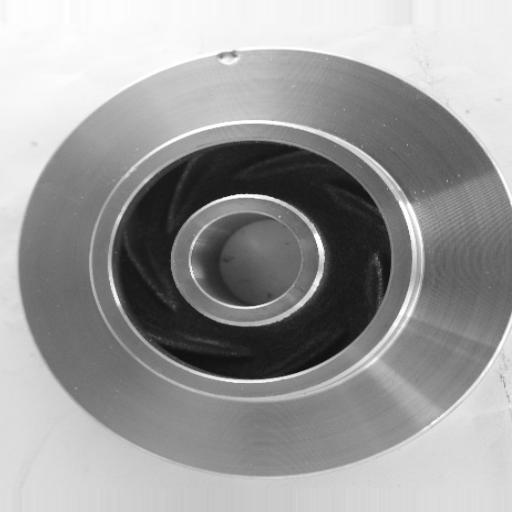crack: (209, 40, 253, 74)
unpolished_casting: (17, 46, 512, 480)
